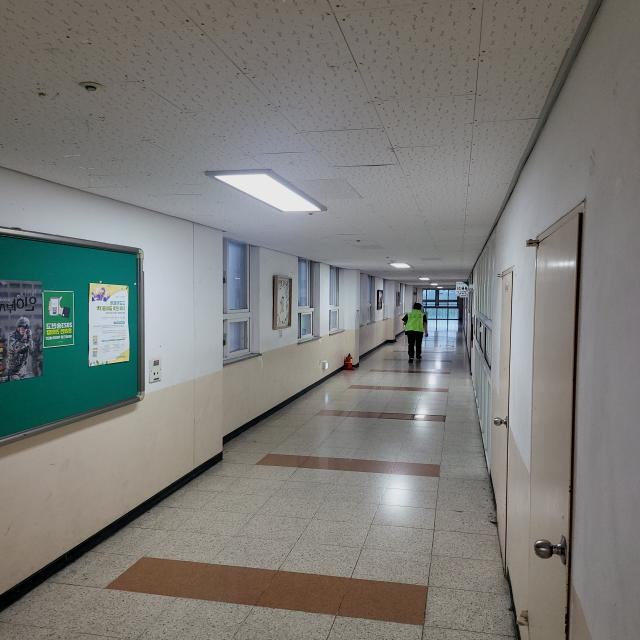weston_spy: (399, 307, 431, 336)
